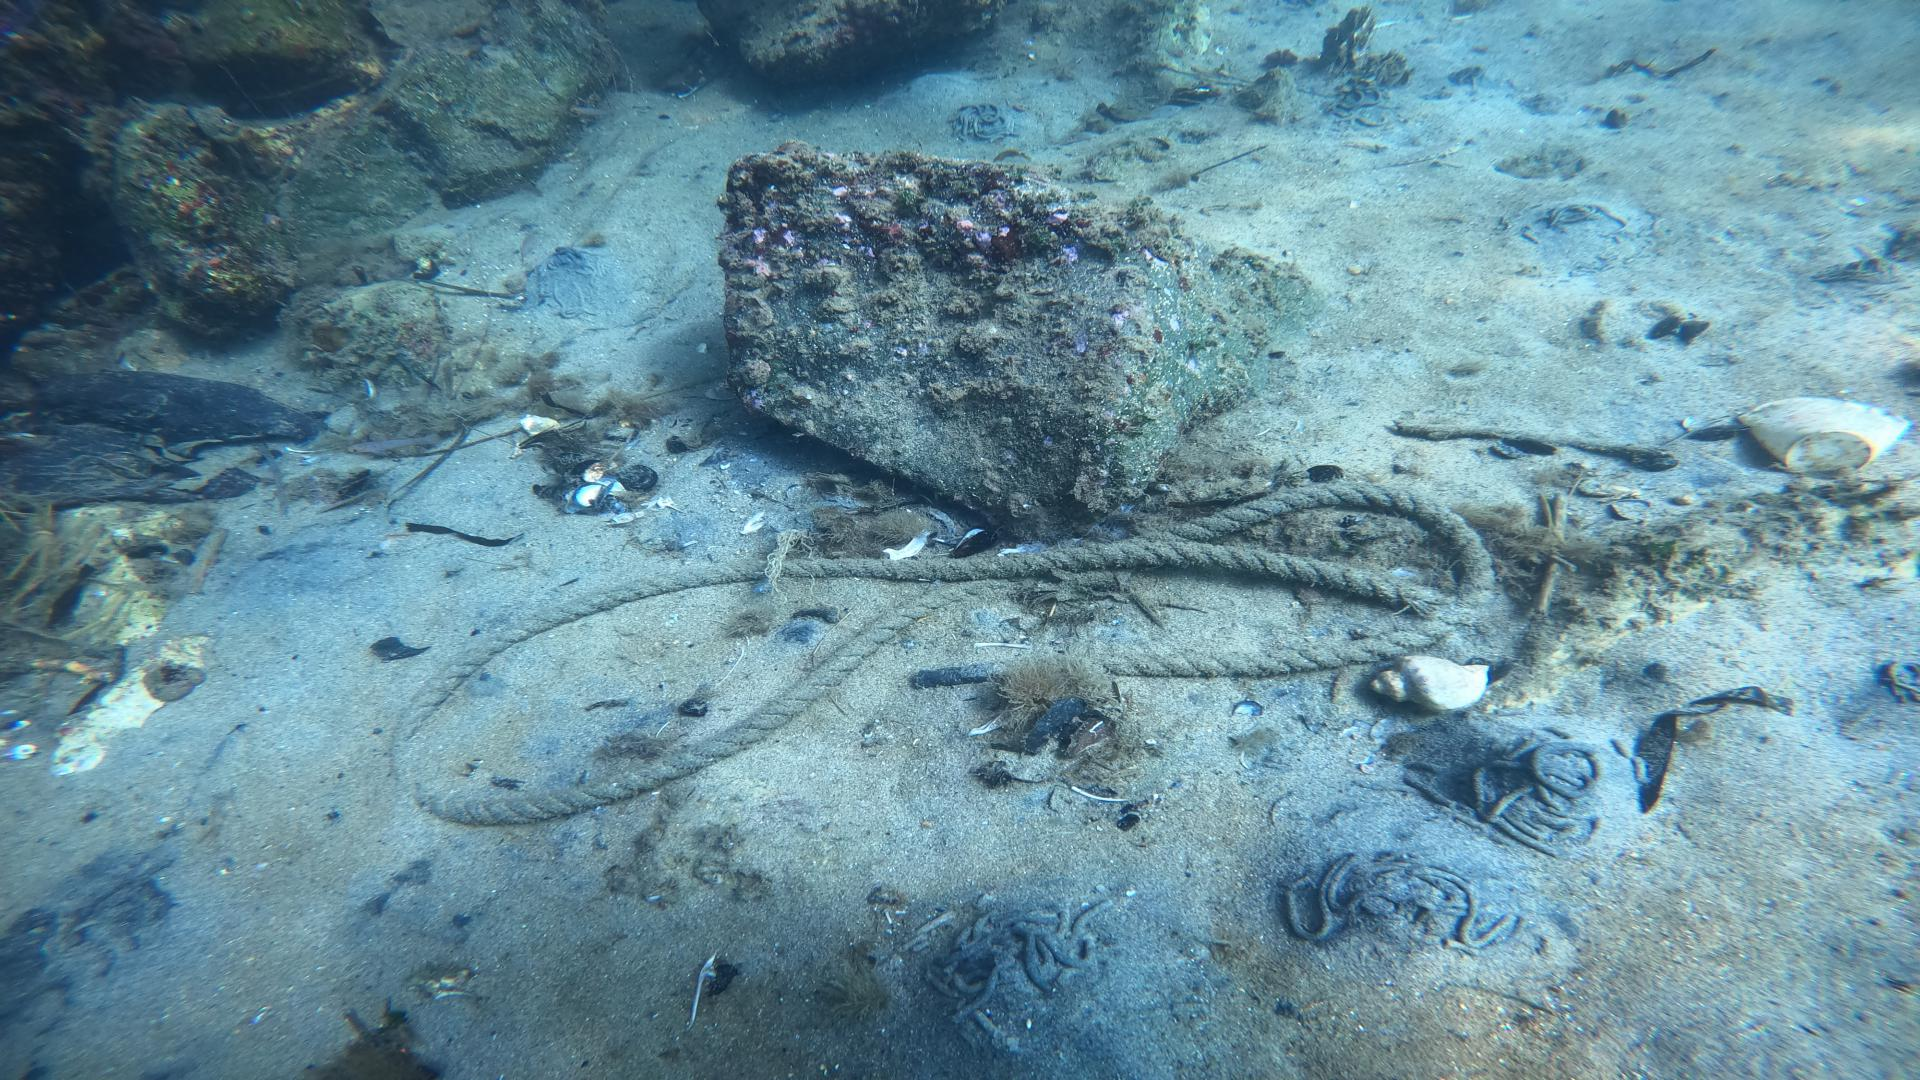bundle of ropes: (390, 477, 1495, 829)
